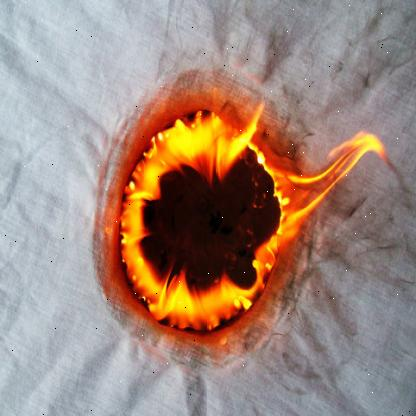fire: (114, 88, 391, 341)
